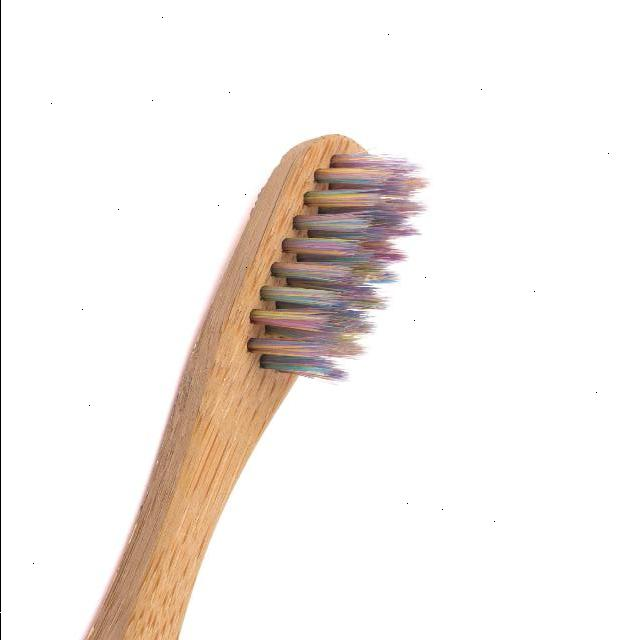toothbrush: (113, 56, 467, 640)
